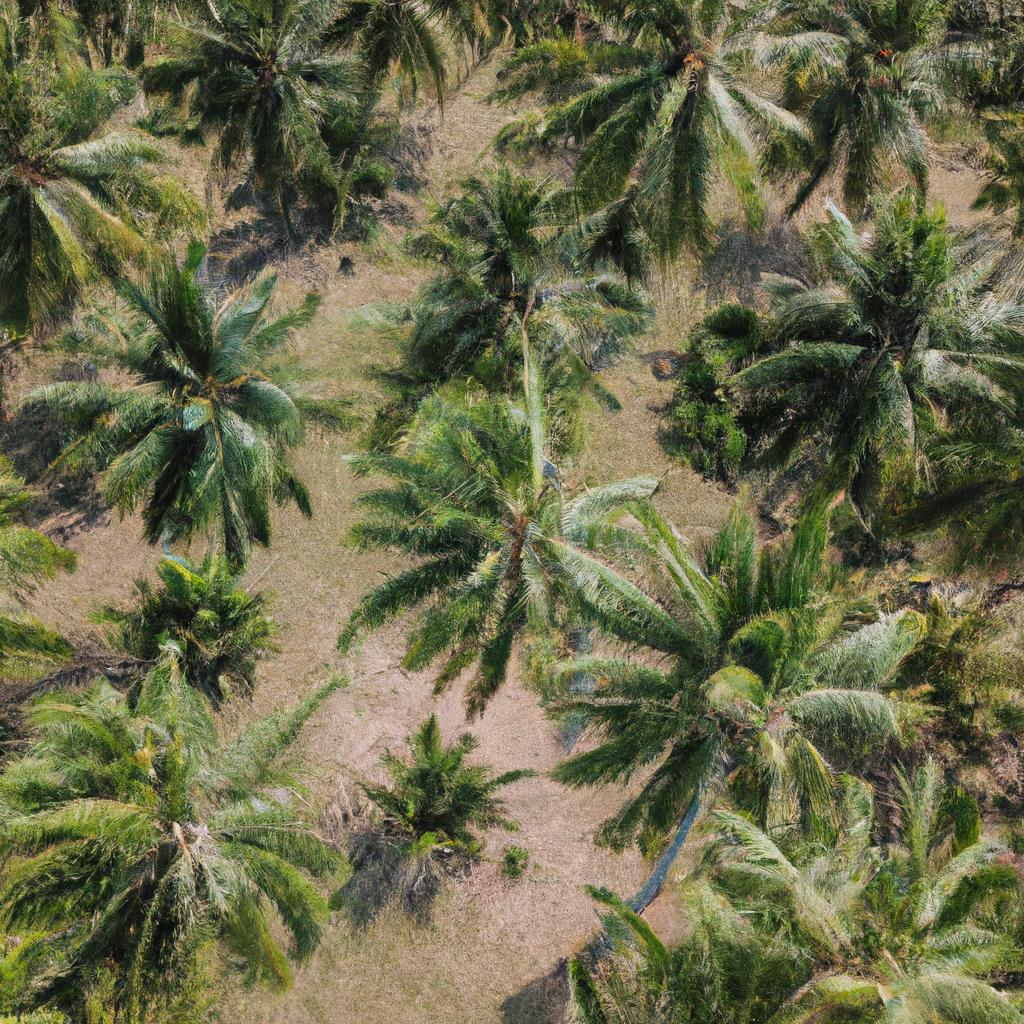coconut_tree: (535, 510, 939, 797), (5, 670, 337, 1011), (672, 202, 1023, 497), (345, 361, 680, 667), (58, 286, 342, 562), (510, 5, 820, 243), (162, 8, 402, 194)
